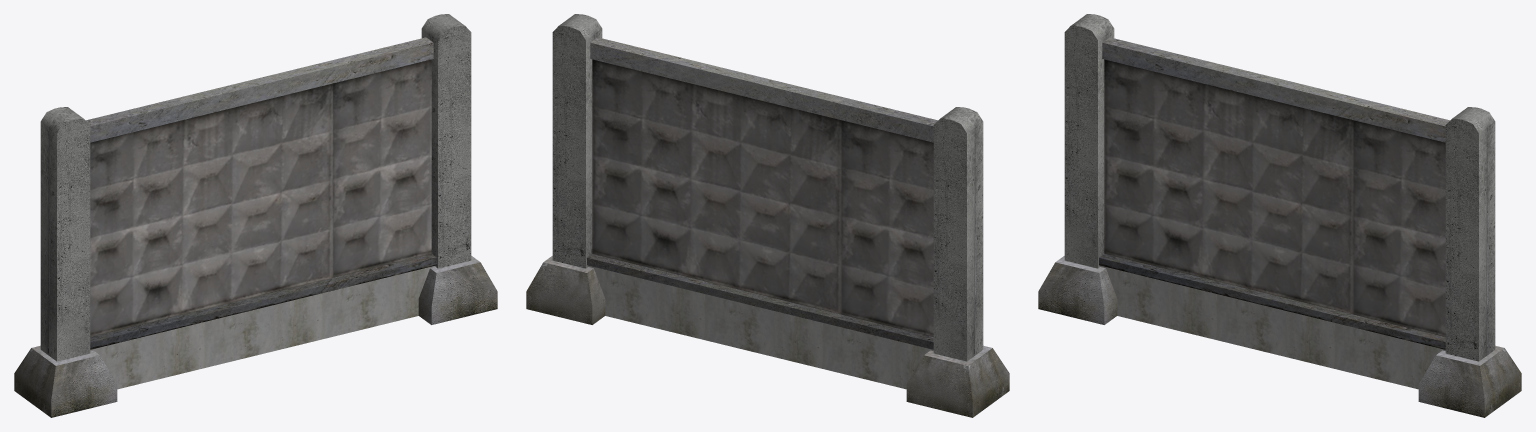
The model's file is SM_Fence.fbx.
3 renders of one model, left to right at view 1: azimuth 30°, elevation 25°; view 2: azimuth 150°, elevation 25°; view 3: azimuth 330°, elevation 25°, orthographic.
Parts seen in each view (by area): view 1: SM_Fence; view 2: SM_Fence; view 3: SM_Fence.
Boxes of the visible parts, left/top/right/bottom form: SM_Fence: left=14, top=14, right=497, bottom=417; SM_Fence: left=526, top=14, right=1009, bottom=417; SM_Fence: left=1038, top=14, right=1521, bottom=417.
Bounding box in the file's own units: 4 × 2.42 × 0.5742.
